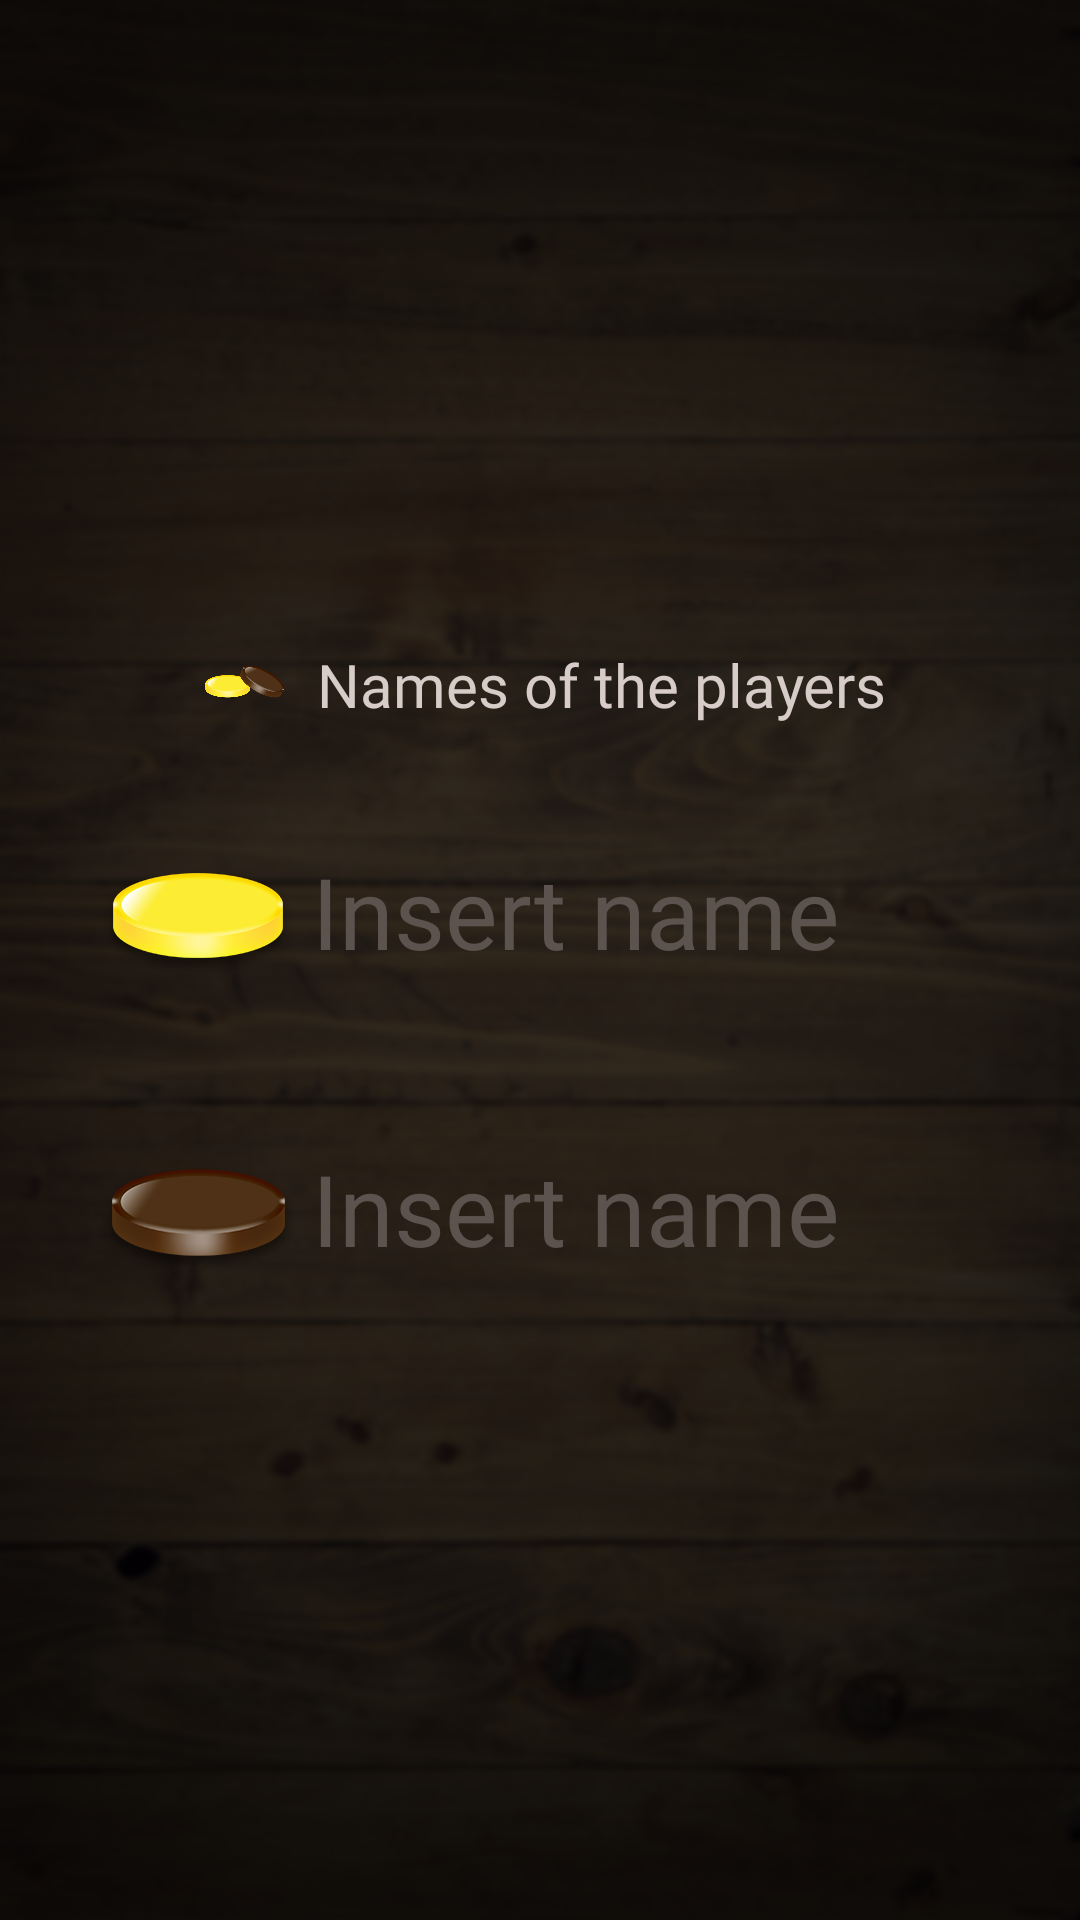

Icon click points for this 1080px x 1920px phone screenshot, format point (x, y):
player one: point (198, 915)
player two: point (198, 1213)
